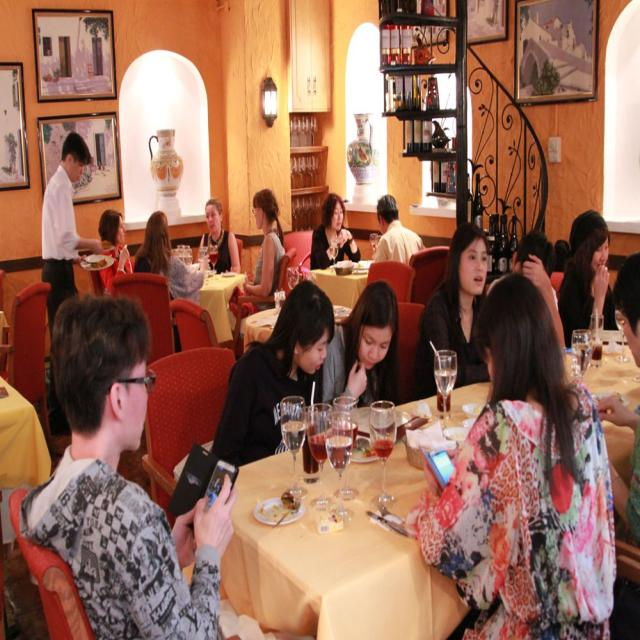body: (17, 290, 317, 640), (399, 269, 619, 640), (203, 279, 337, 486), (40, 128, 107, 438), (412, 221, 492, 401), (485, 227, 567, 356), (322, 280, 399, 410), (226, 188, 286, 340), (556, 211, 616, 348), (133, 209, 211, 308), (556, 245, 618, 348), (373, 193, 428, 266), (309, 193, 361, 270), (193, 196, 242, 274), (96, 208, 136, 298)
